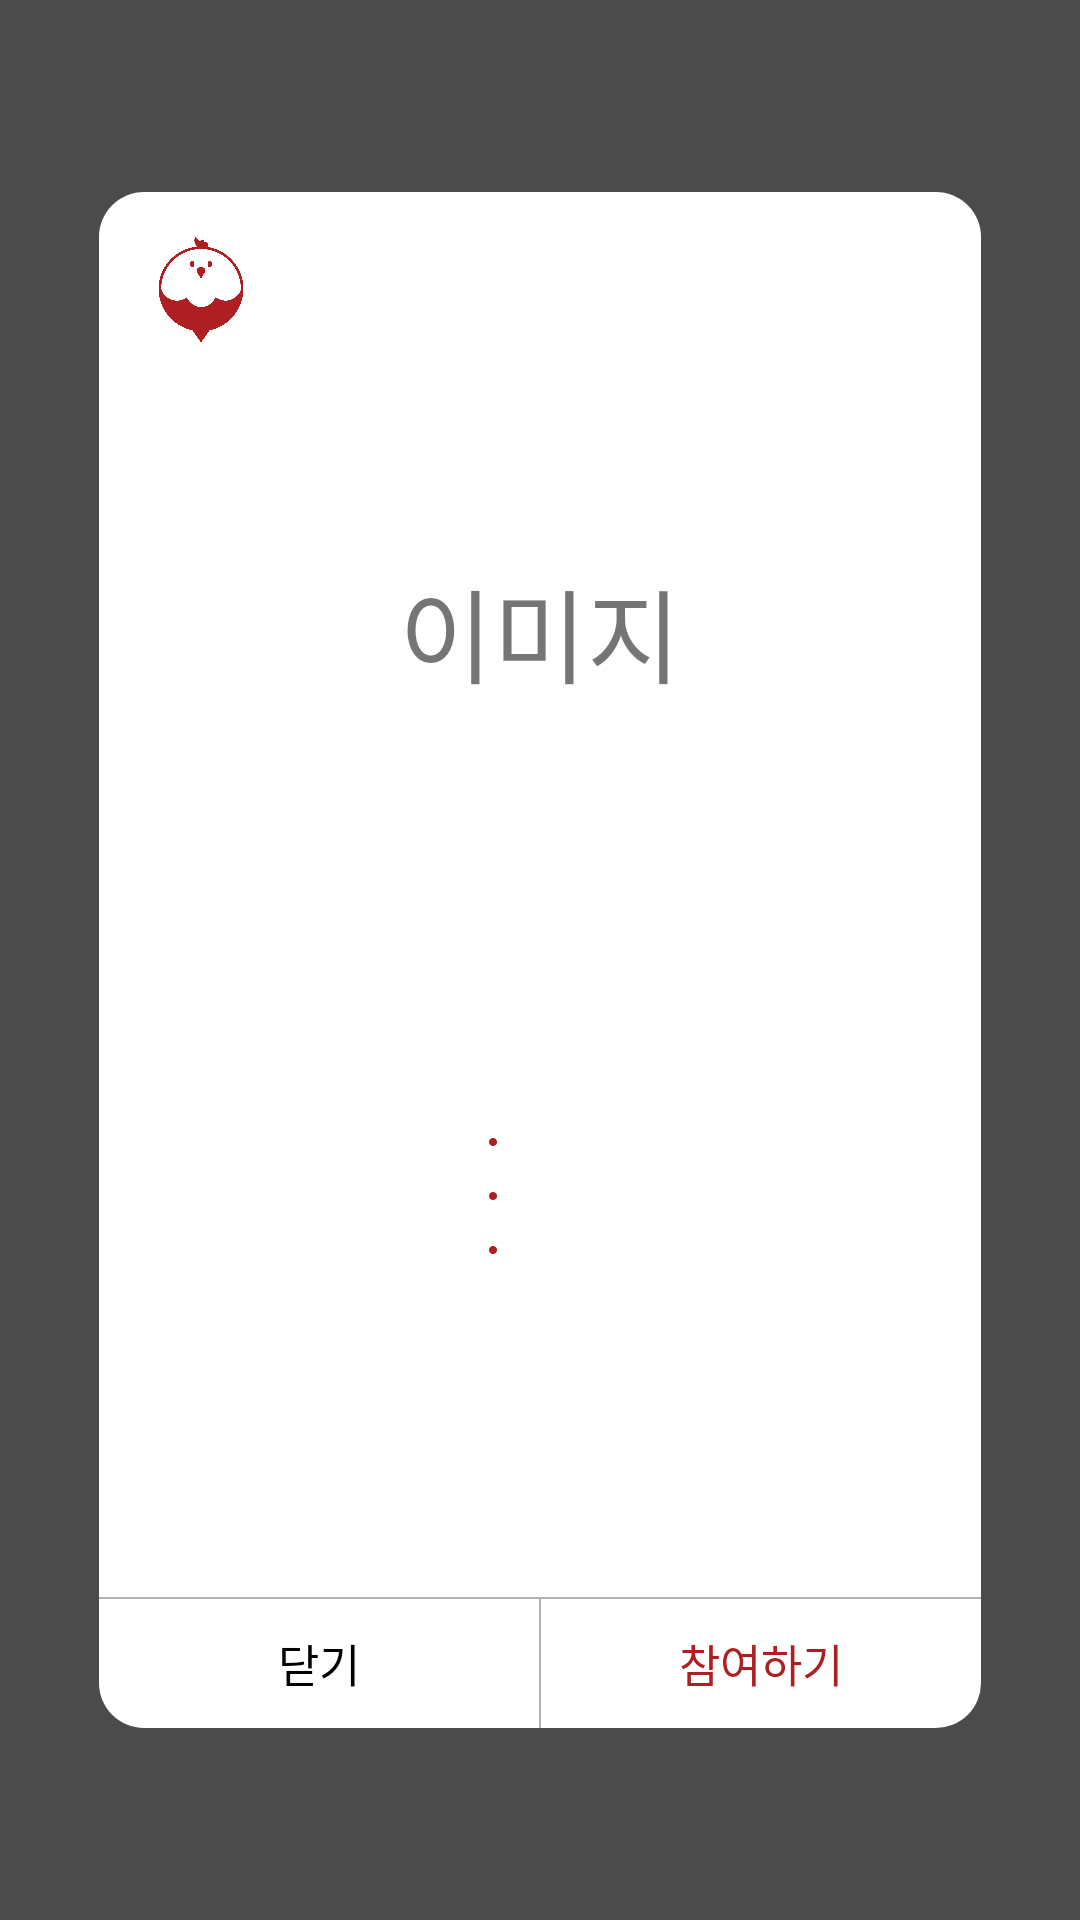

Named icons in this screenshot (1080px×1920px) and their centers, point (x, y):
chicken: point (201, 289)
